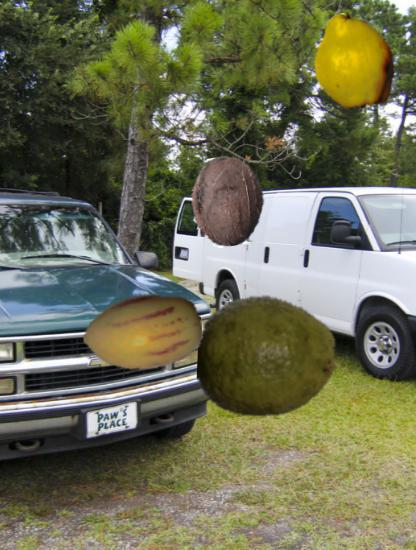Cocos: (183, 156, 274, 247)
Guava: (198, 287, 338, 427)
Pepino: (83, 272, 203, 392)
Quince: (302, 12, 404, 114)
